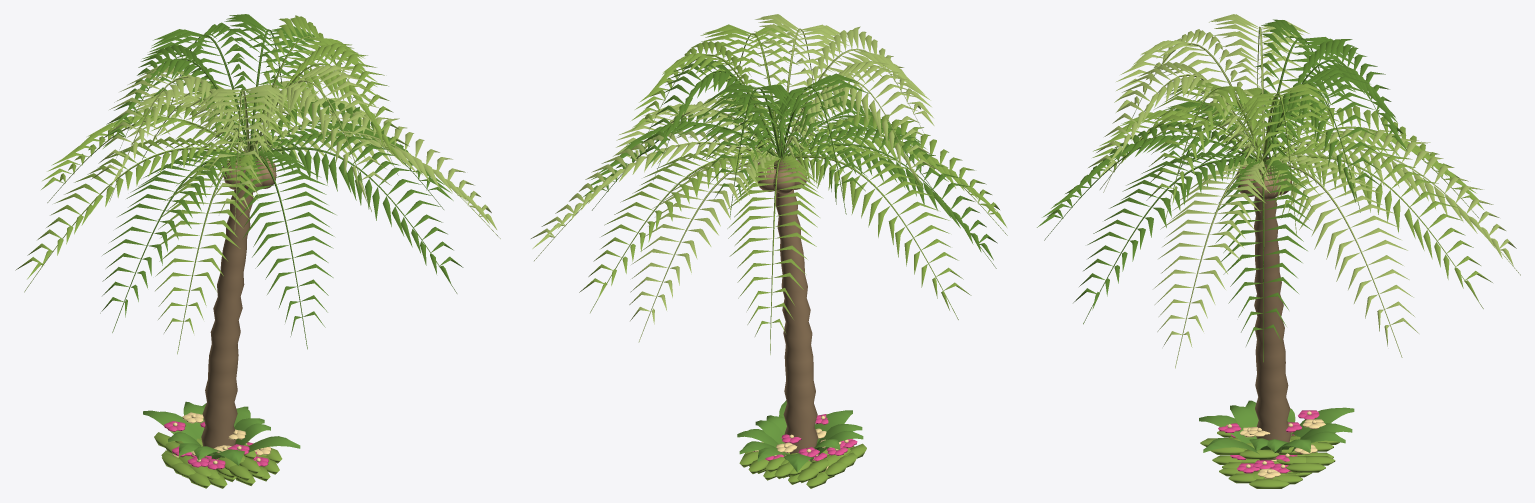
The model's file is oasis-botanical-library.glb.
The picture shows the model from 3 angles, left to right: view 1: azimuth 30°, elevation 25°; view 2: azimuth 150°, elevation 25°; view 3: azimuth 270°, elevation 25°; orthographic projection. The views are drawn at different scales.
Parts seen in each view (by area): view 1: PalmCrown, PalmTrunk, Flowers, Fern; view 2: PalmCrown, PalmTrunk, Flowers, Fern; view 3: PalmCrown, PalmTrunk, Flowers, Fern.
Part boxes in pixels (left/top/right/bottom): PalmCrown: left=15, top=14, right=500, bottom=354; PalmTrunk: left=201, top=150, right=276, bottom=448; Flowers: left=154, top=412, right=282, bottom=488; Fern: left=143, top=401, right=300, bottom=465; PalmCrown: left=531, top=14, right=1007, bottom=354; PalmTrunk: left=756, top=159, right=817, bottom=476; Flowers: left=739, top=414, right=866, bottom=488; Fern: left=737, top=400, right=863, bottom=472; PalmCrown: left=1037, top=14, right=1520, bottom=368; PalmTrunk: left=1236, top=157, right=1291, bottom=460; Flowers: left=1200, top=410, right=1339, bottom=488; Fern: left=1199, top=400, right=1354, bottom=454.
Bounding box in the file's own units: 4.51 × 4.34 × 4.47.
